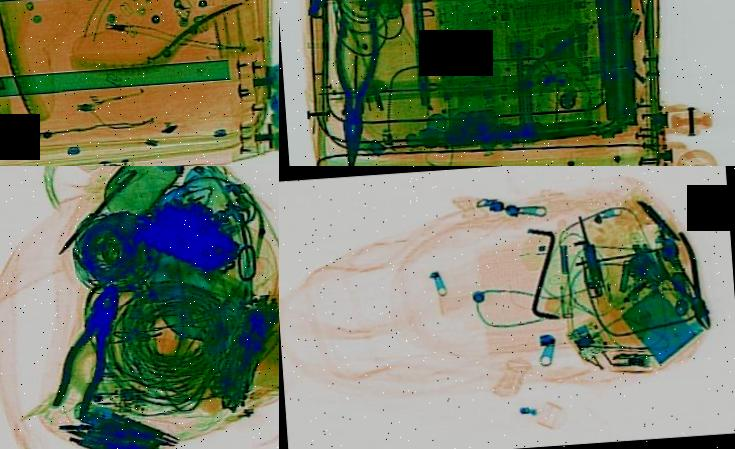Pliers: (36, 273, 140, 423), (317, 14, 391, 166), (644, 227, 730, 334)
